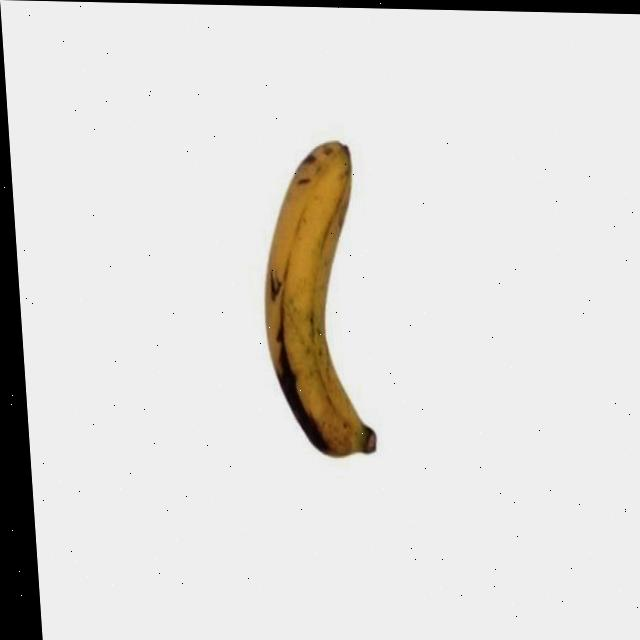banana: (249, 125, 385, 466)
